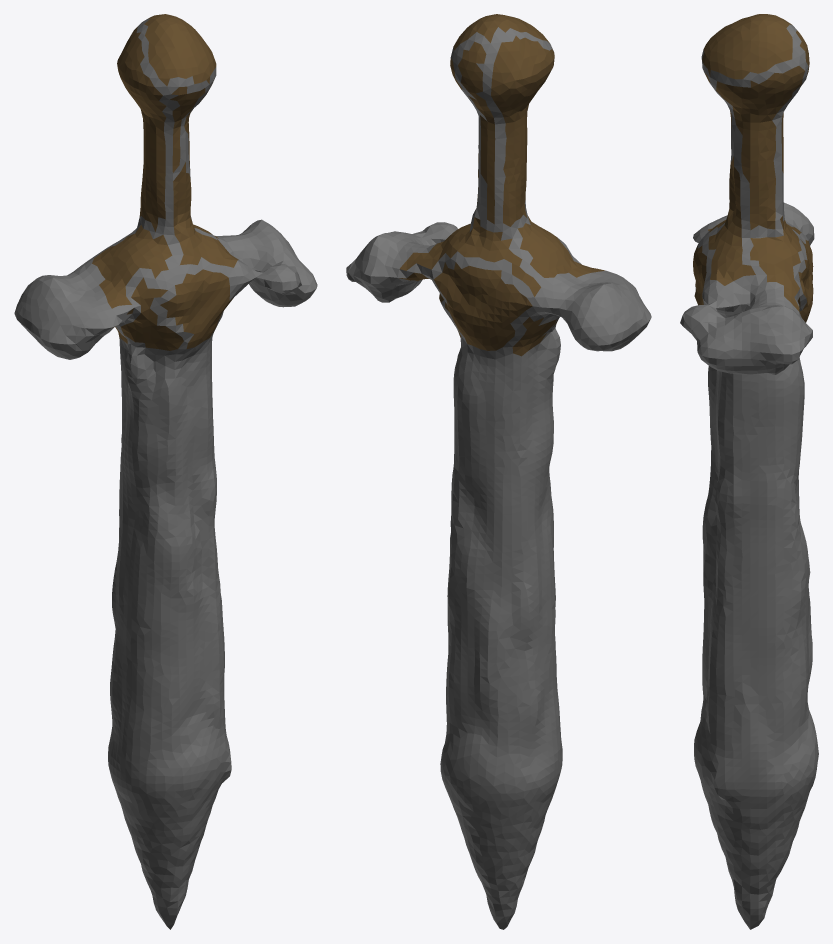
The model's file is sword1.fbx.
The picture shows the model from 3 angles, left to right: view 1: azimuth 30°, elevation 25°; view 2: azimuth 150°, elevation 25°; view 3: azimuth 270°, elevation 25°; orthographic projection.
Visible parts, largest first — view 1: Mesh_0.001; view 2: Mesh_0.001; view 3: Mesh_0.001.
Part boxes in pixels (box(x1,y1,x2,y2)): Mesh_0.001: box(14, 14, 317, 929); Mesh_0.001: box(346, 14, 651, 929); Mesh_0.001: box(680, 14, 818, 929).
Size of the model in its own units: 44.65 by 143 by 19.65.
